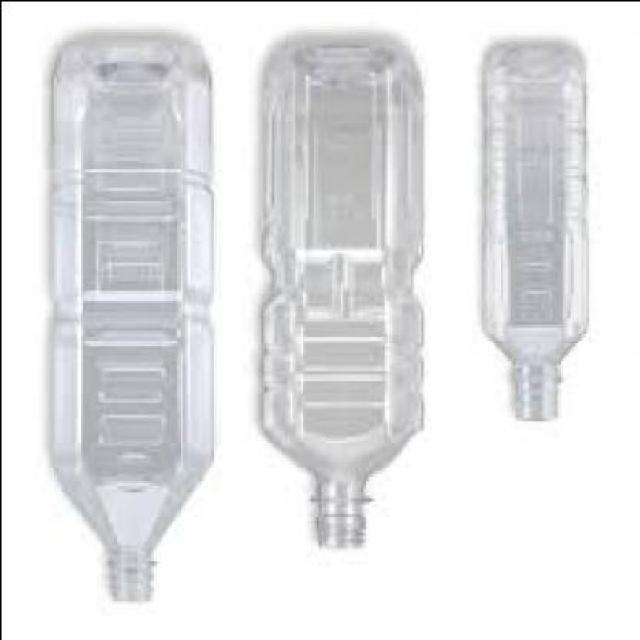PLASTIC: (49, 31, 216, 606), (260, 41, 428, 550), (480, 40, 588, 423)
